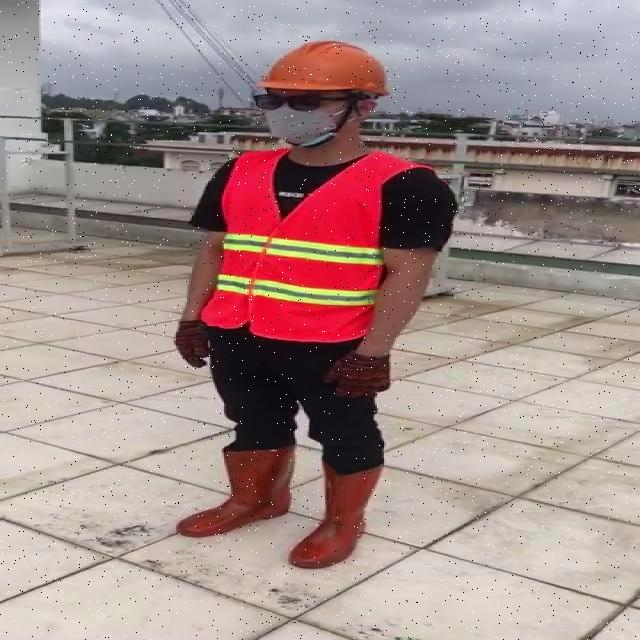Hard_hat: (252, 37, 401, 108)
Person: (173, 38, 456, 624)
Vest: (217, 143, 389, 343)
